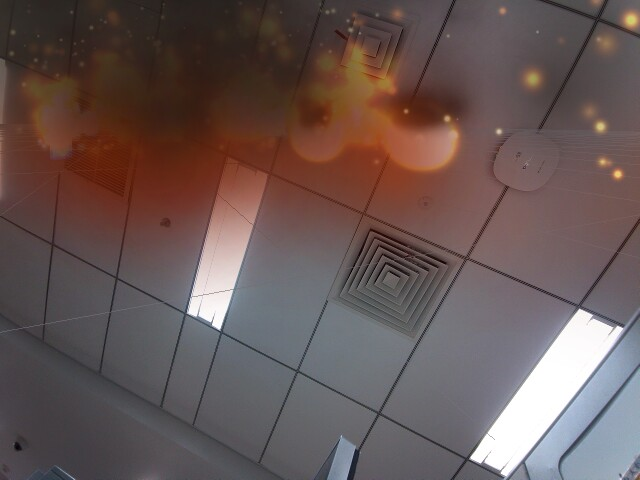fire: (386, 95, 467, 176), (290, 103, 347, 165)
